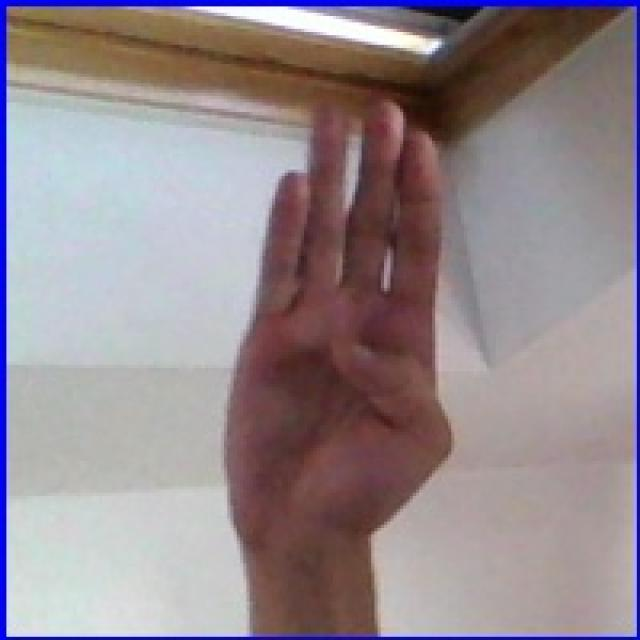Letra B: (176, 83, 493, 584)
